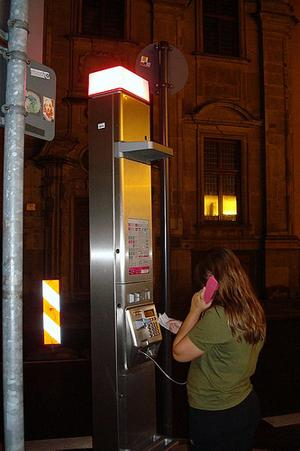person: (174, 243, 268, 443)
